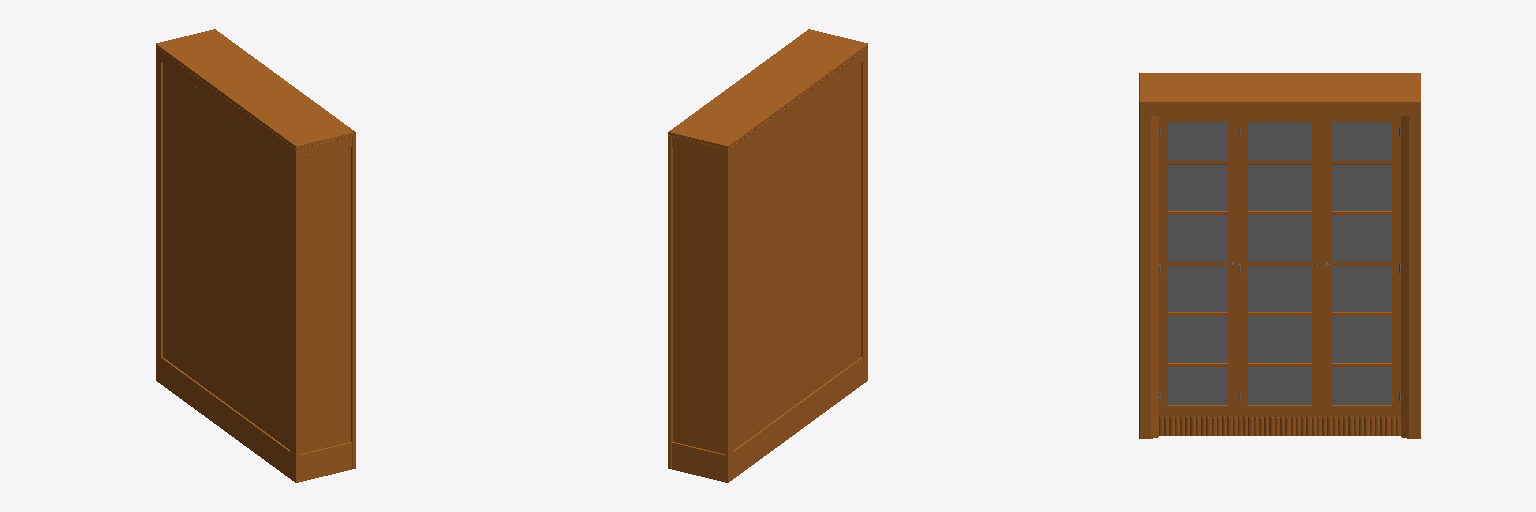
File: bookcase.obj
The picture shows the model from 3 angles: view 1: azimuth 30°, elevation 25°; view 2: azimuth 150°, elevation 25°; view 3: azimuth 270°, elevation 25°; orthographic projection.
Parts seen in each view (by area): view 1: massive2; view 2: massive2; view 3: massive2, glass.
Part boxes in pixels (left/top/right/bottom): massive2: left=156, top=29, right=355, bottom=482; massive2: left=668, top=29, right=867, bottom=482; massive2: left=1139, top=73, right=1420, bottom=438; glass: left=1168, top=122, right=1391, bottom=404.
Bounding box in the file's own units: 386 × 2050 × 1550.